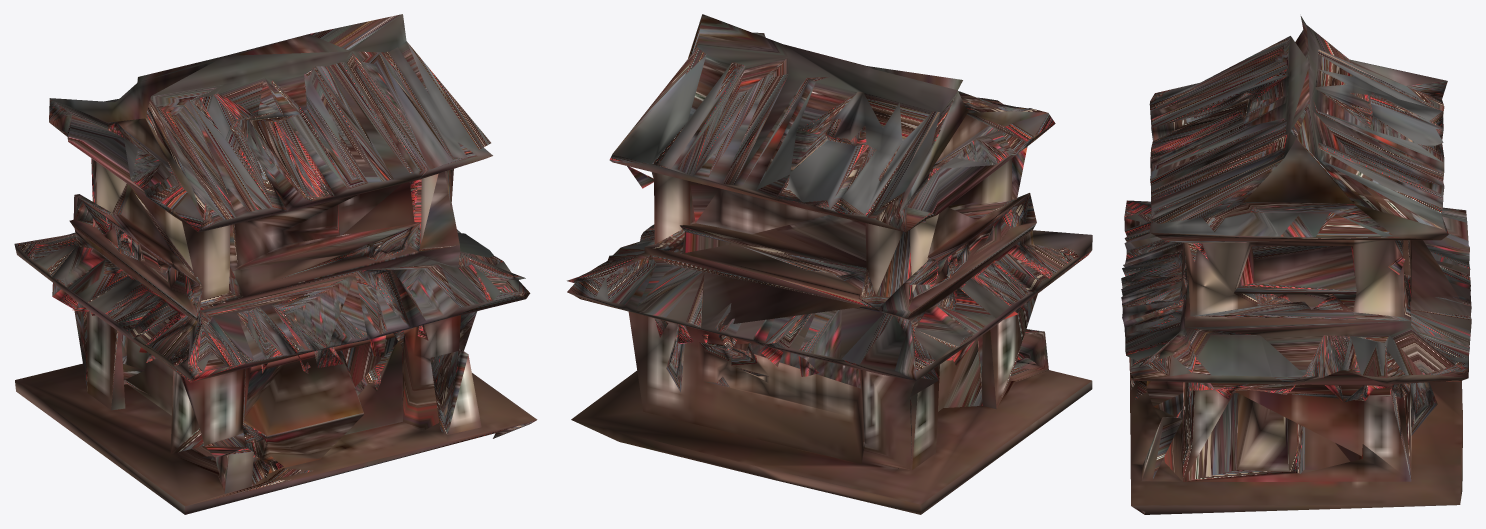
Rendered from bq_shop_lantern.lod2.glb.
The picture shows the model from 3 angles, left to right: view 1: azimuth 30°, elevation 25°; view 2: azimuth 150°, elevation 25°; view 3: azimuth 270°, elevation 25°; orthographic projection. The views are drawn at different scales.
Size of the model in its own units: 1.99 by 1.96 by 1.76.
1 material, 1 textured.
